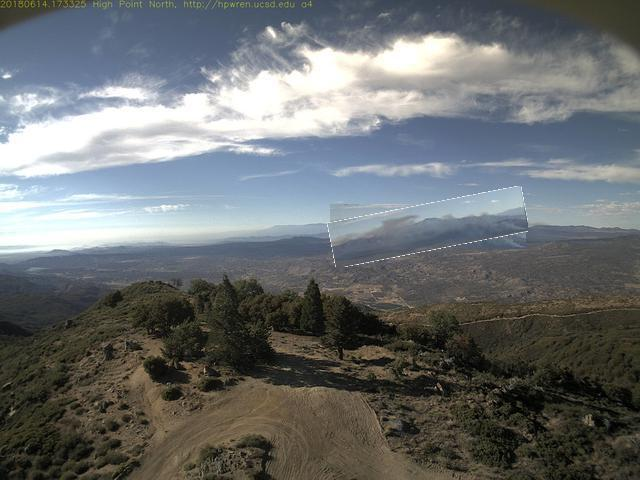smoke: (330, 196, 529, 260)
